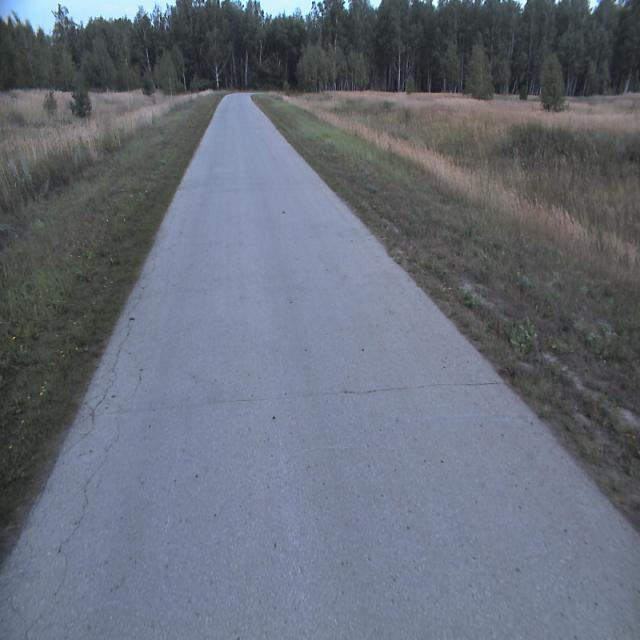road: (0, 92, 639, 639)
